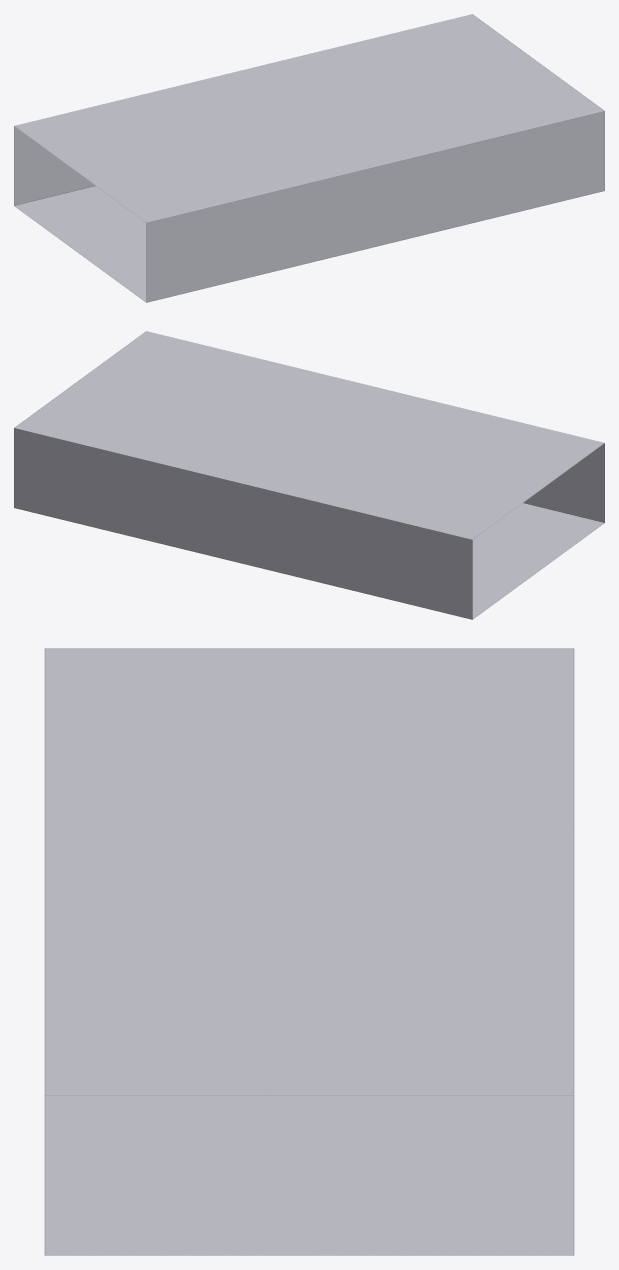
Rendered from Roof_Half_02.FBX.
3 renders of one model, top to bottom at view 1: azimuth 30°, elevation 25°; view 2: azimuth 150°, elevation 25°; view 3: azimuth 270°, elevation 25°, orthographic. The views are drawn at different scales.
Visible parts, largest first — view 1: Roof_Half_02; view 2: Roof_Half_02; view 3: Roof_Half_02.
Boxes of the visible parts, x1=… form: Roof_Half_02: x1=14, y1=14, x2=604, y2=302; Roof_Half_02: x1=14, y1=331, x2=604, y2=619; Roof_Half_02: x1=44, y1=648, x2=574, y2=1255.
Bounding box in the file's own units: 12 × 2 × 6.
